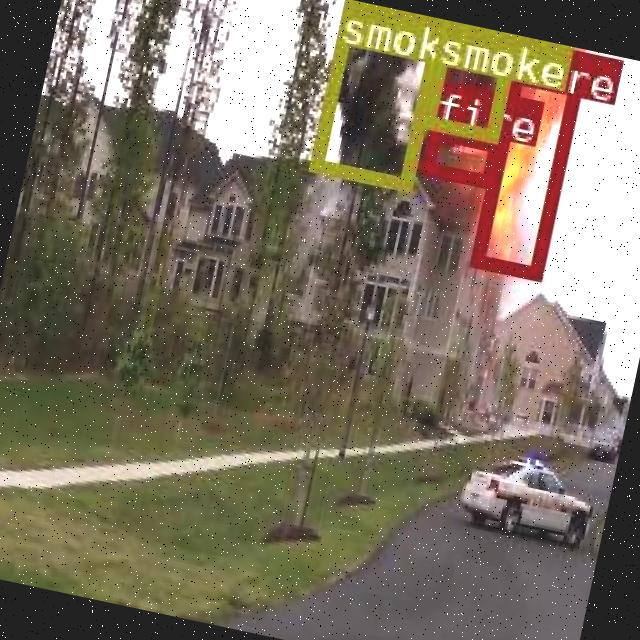fire: (469, 35, 587, 278), (417, 124, 501, 186)
smoke: (306, 0, 443, 189), (419, 18, 516, 138)
